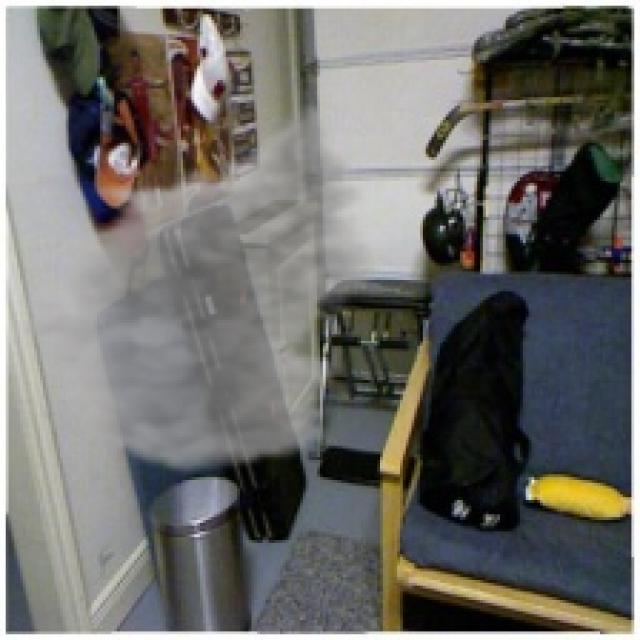smoke: (9, 100, 392, 477)
